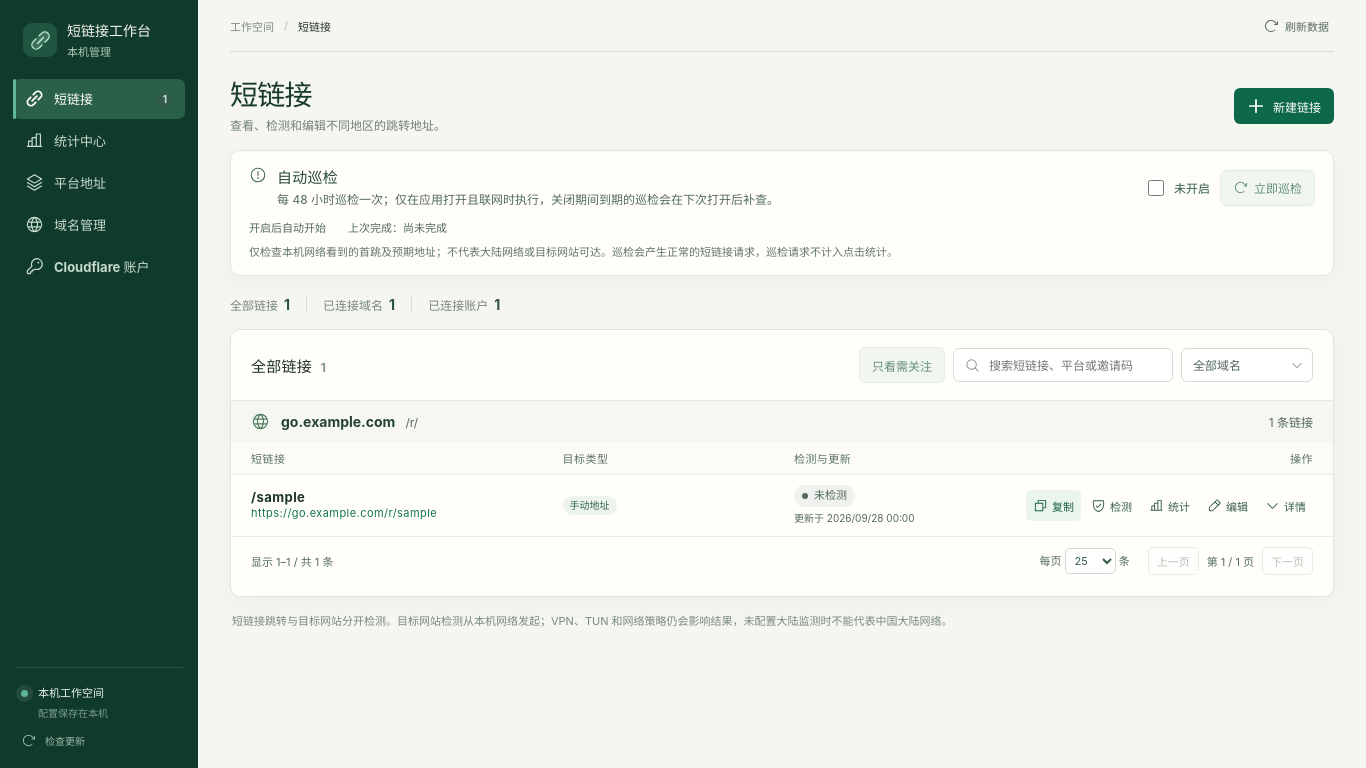
Scenario: automatic typed virtual DNS retry › keeps a public failure visible and does not loop
This screenshot has width=1366, height=768.
Check: the text "/sample" is shown, box [251,489,305,505]
Click the button with aria-label "检测 sample". click: [1112, 506]
box: [1084,490,1139,521]
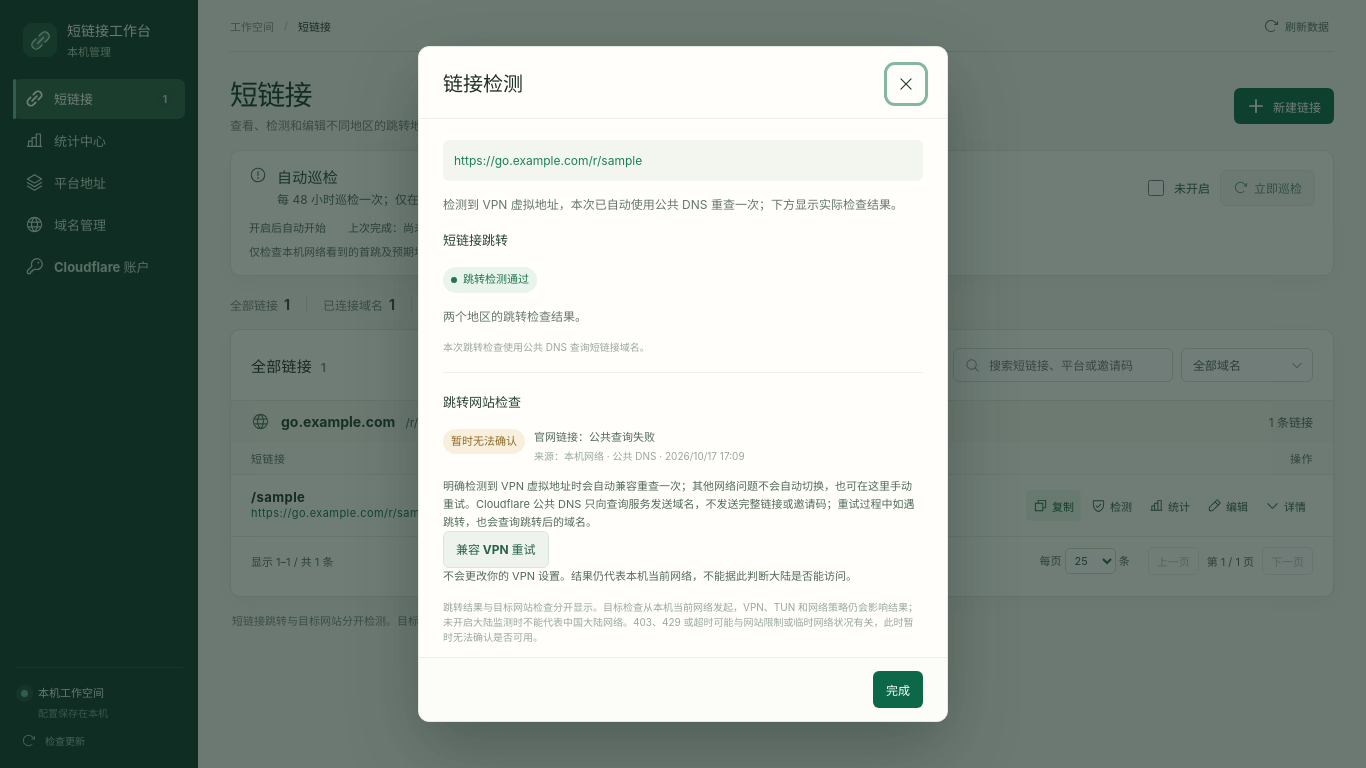
Check: the text "官网链接：公共查询失败 来源：本机网络 · 公共 DNS · 2026/10/17 17:09" is shown, box [534,429,745,464]
